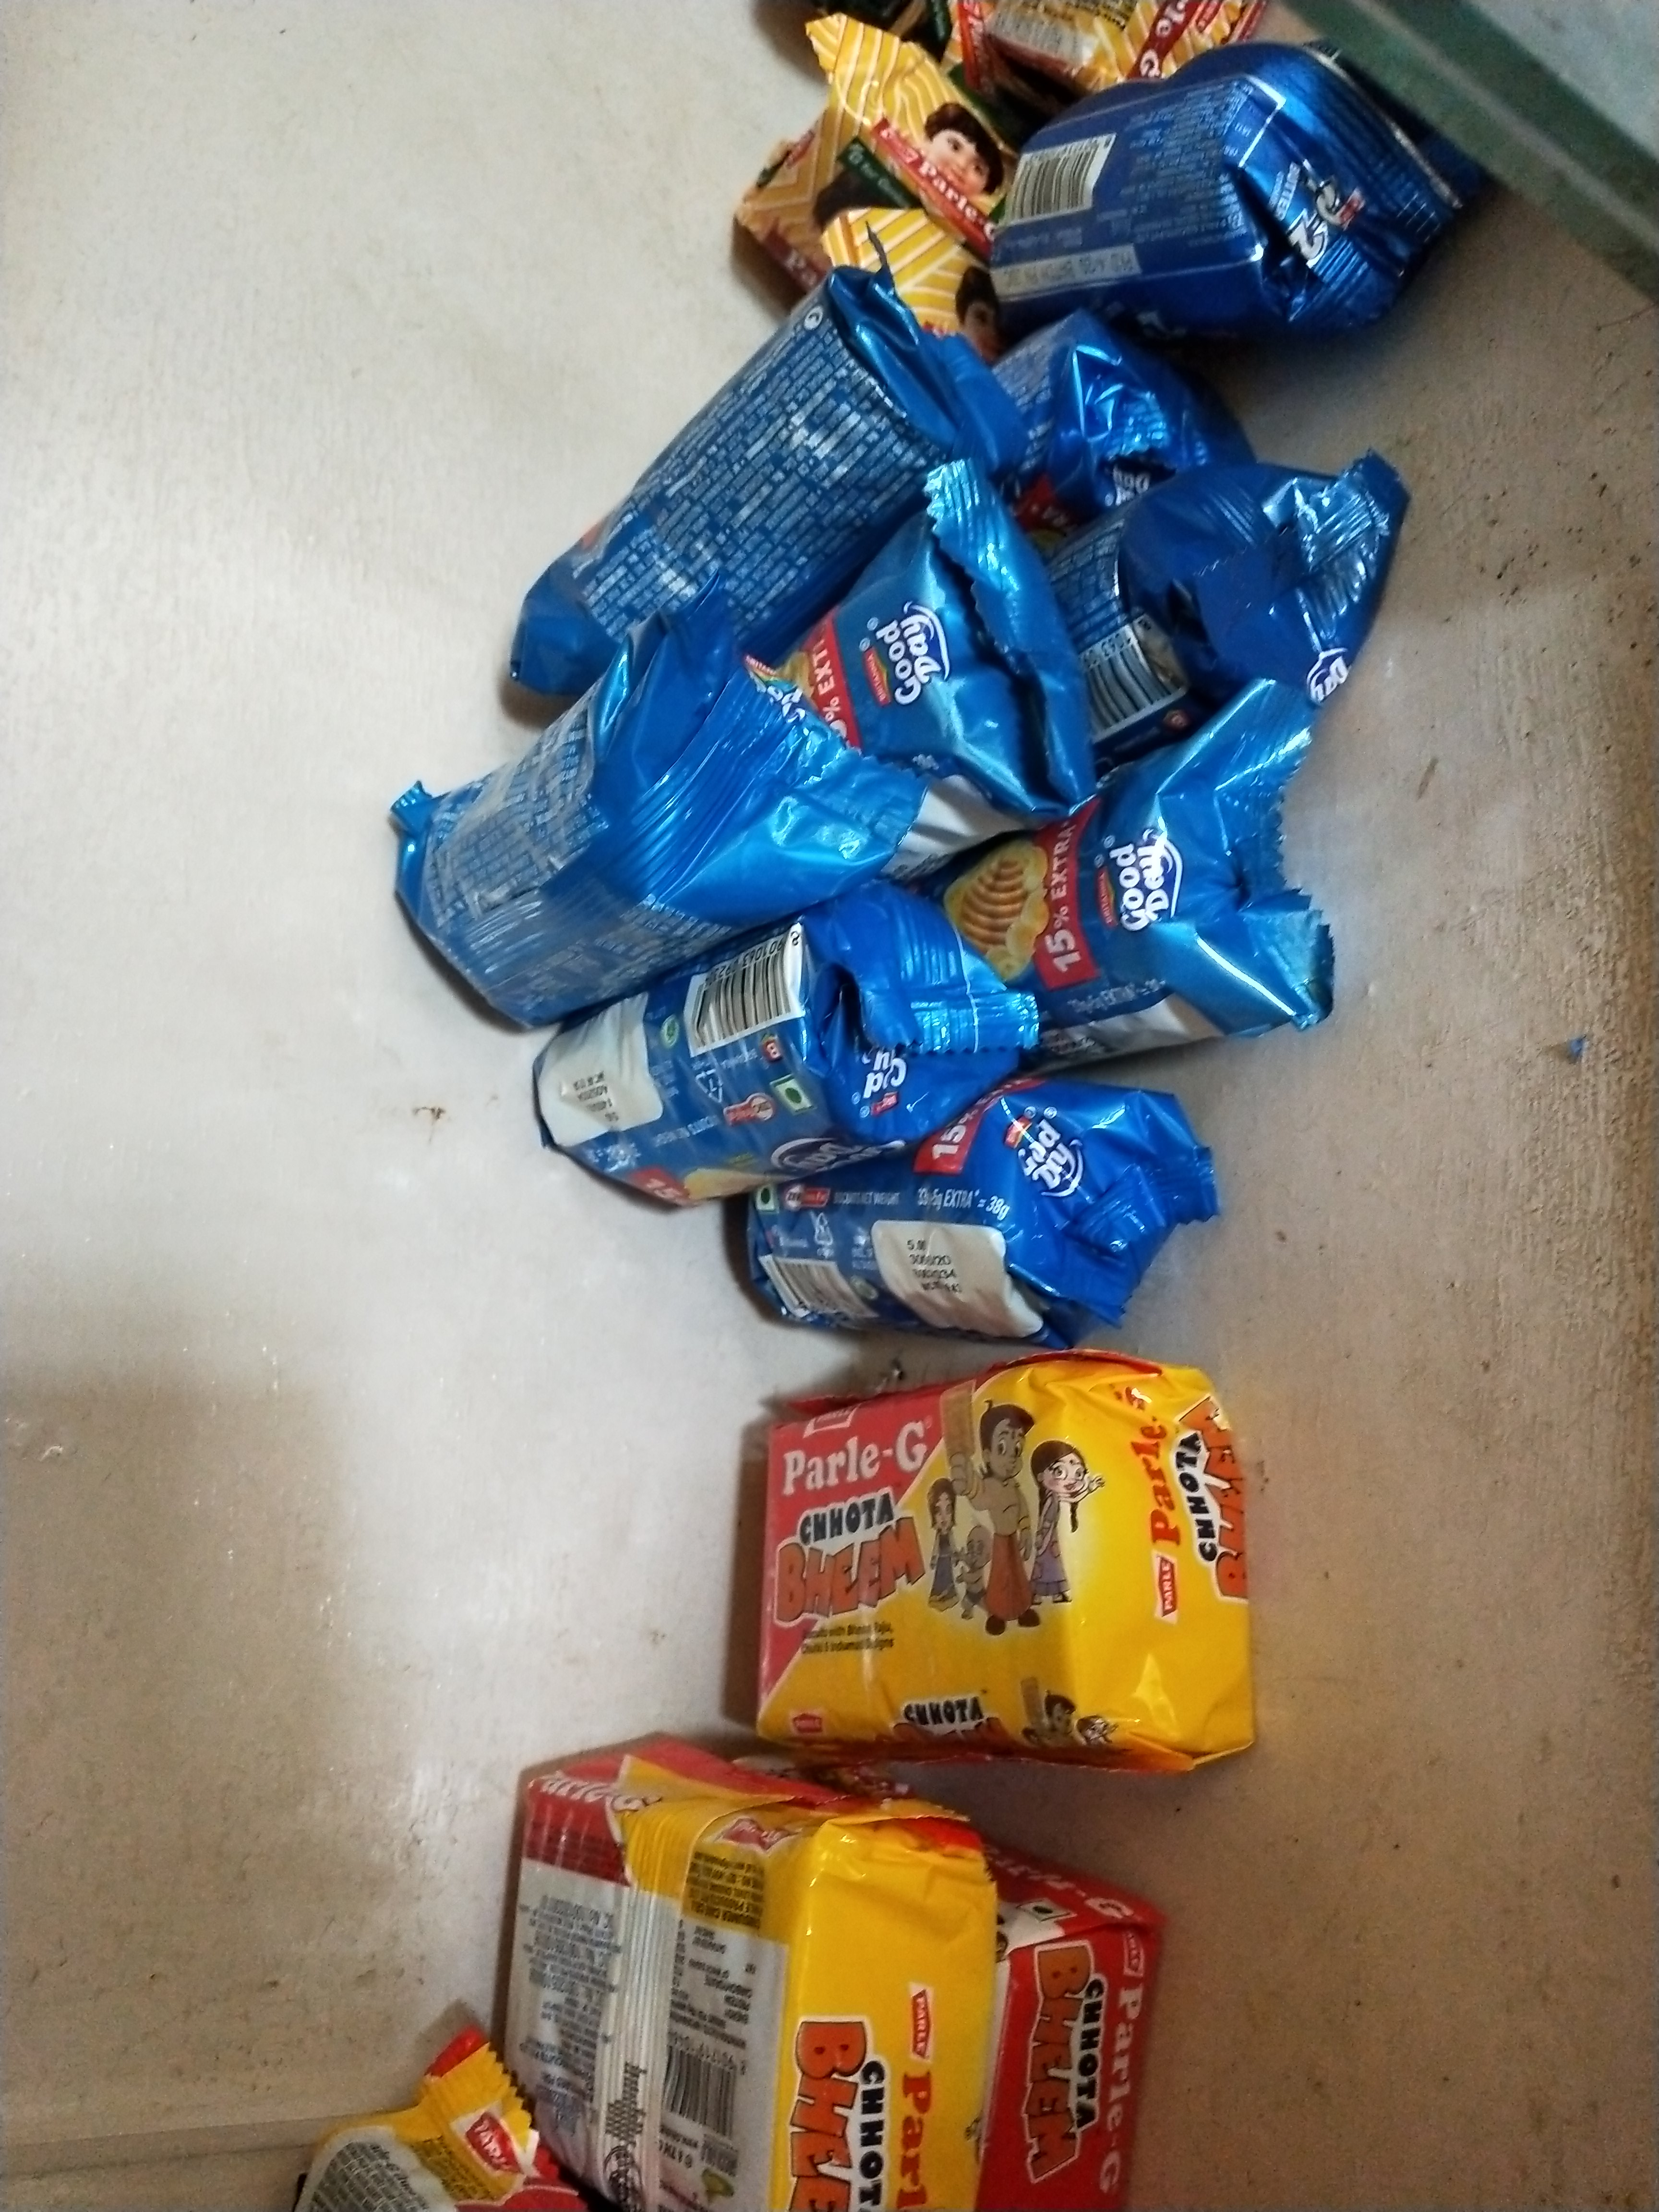food: (383, 28, 1485, 1346), (267, 1345, 1267, 2207), (732, 0, 1293, 361)
